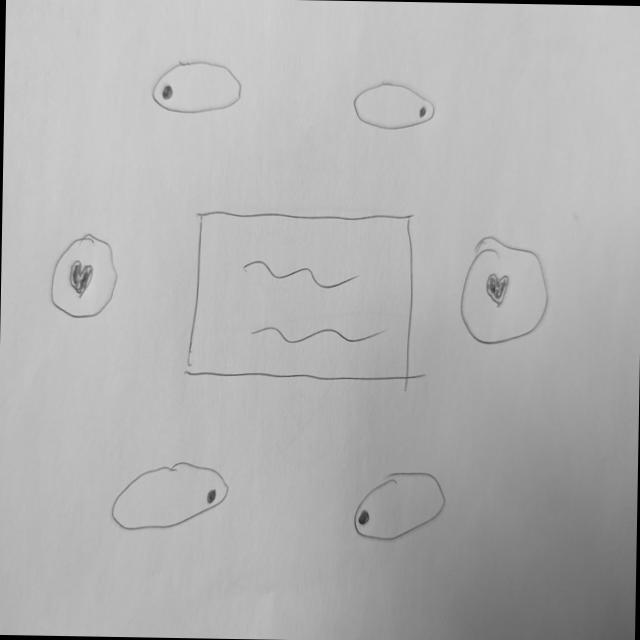icon-button: (457, 231, 553, 350), (47, 231, 120, 323)
textarea: (183, 207, 420, 385)
toggle: (111, 458, 233, 534), (350, 469, 449, 550), (151, 59, 245, 118), (351, 80, 439, 136)
